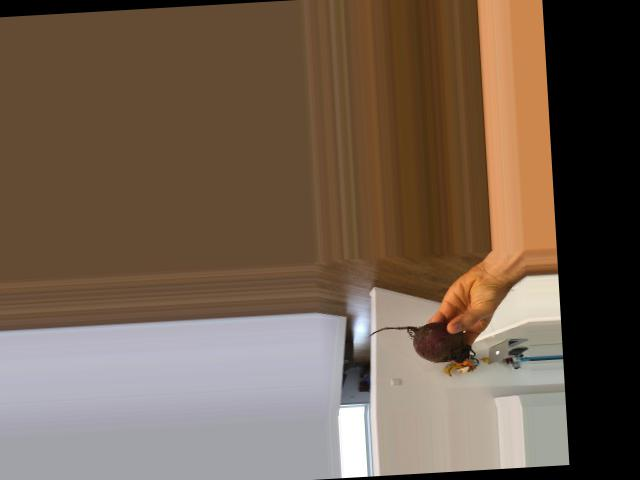beet: (367, 320, 475, 367)
